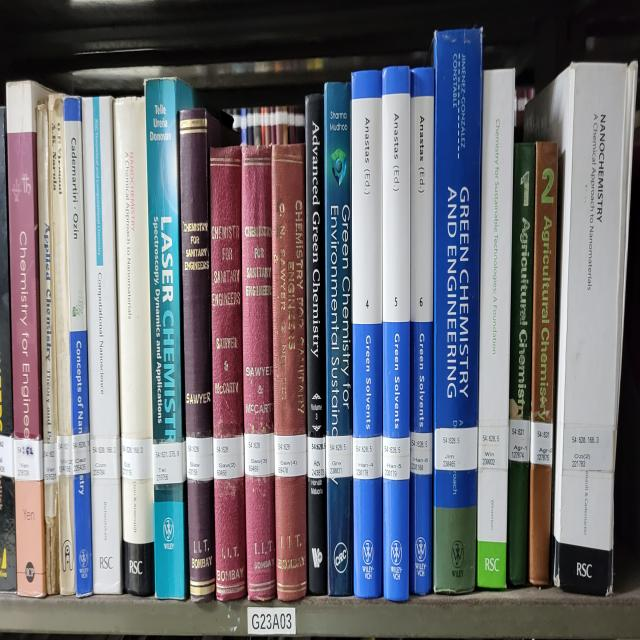Book: (525, 62, 636, 595), (180, 108, 238, 601), (432, 30, 482, 593), (49, 95, 94, 595), (6, 81, 48, 595), (114, 97, 155, 595), (82, 97, 122, 593), (145, 78, 198, 444), (478, 70, 515, 587), (210, 146, 246, 601), (351, 70, 382, 598), (241, 146, 276, 601), (271, 146, 306, 601), (382, 68, 411, 601), (324, 84, 354, 595), (64, 97, 92, 595), (529, 141, 558, 587), (410, 68, 434, 595), (508, 143, 536, 587), (36, 103, 60, 595), (305, 95, 328, 595)
Label: (562, 425, 614, 471), (434, 427, 478, 471), (152, 441, 186, 484), (274, 433, 306, 476), (244, 433, 275, 476), (14, 438, 44, 482), (479, 427, 509, 471), (90, 436, 120, 479), (214, 436, 244, 479), (352, 436, 382, 479), (186, 436, 214, 482), (121, 438, 152, 479), (382, 436, 410, 479), (326, 436, 352, 479), (410, 433, 432, 476), (530, 422, 552, 465), (509, 419, 530, 463), (71, 433, 90, 476), (308, 436, 326, 479), (56, 436, 72, 476), (44, 441, 58, 484)
